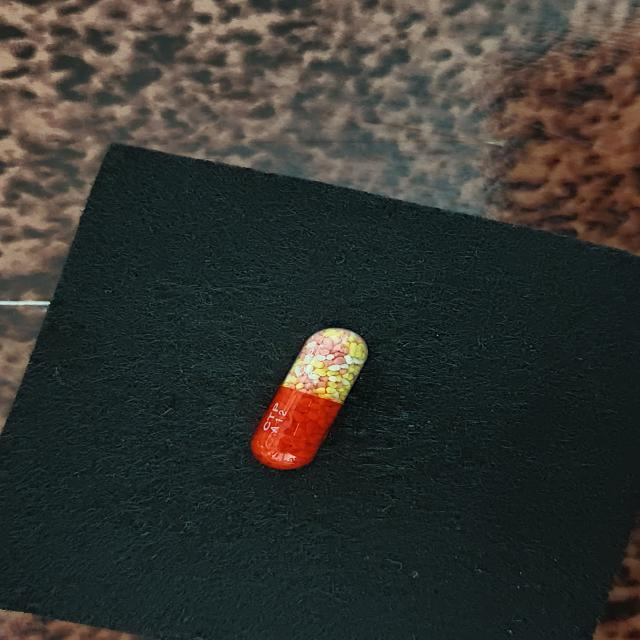Intact Capsule: (251, 328, 368, 469)
